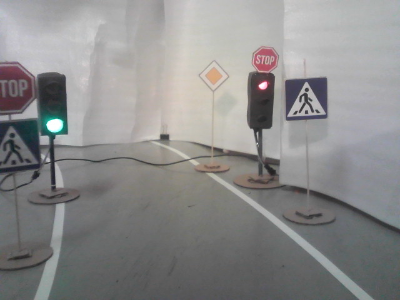crosswalk: (1, 120, 39, 165), (285, 79, 326, 118)
priority_road: (199, 62, 227, 90)
stop: (1, 64, 34, 114), (253, 49, 278, 72)
trafficlight_green: (41, 77, 66, 133)
trafficlight_red: (251, 75, 273, 128)
